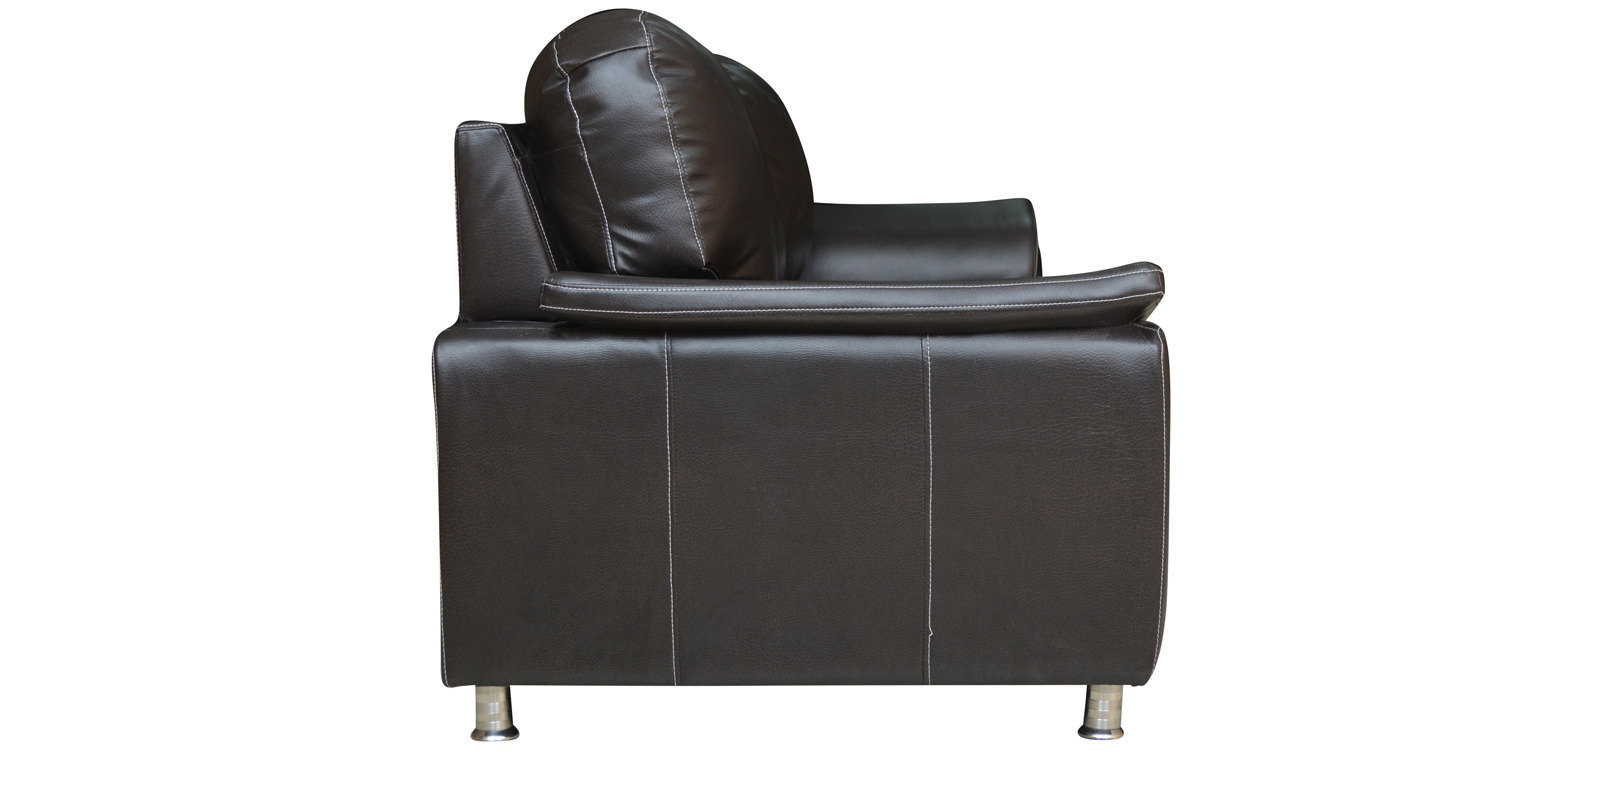Magnum Three Seater Sofa in Black Leatherette by Crystal Furnitech: (430, 6, 1174, 741)
